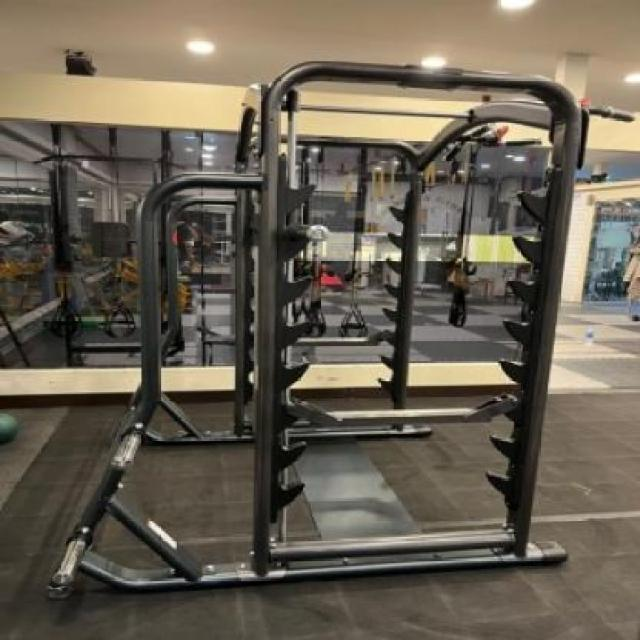smith machine: (56, 62, 584, 603)
